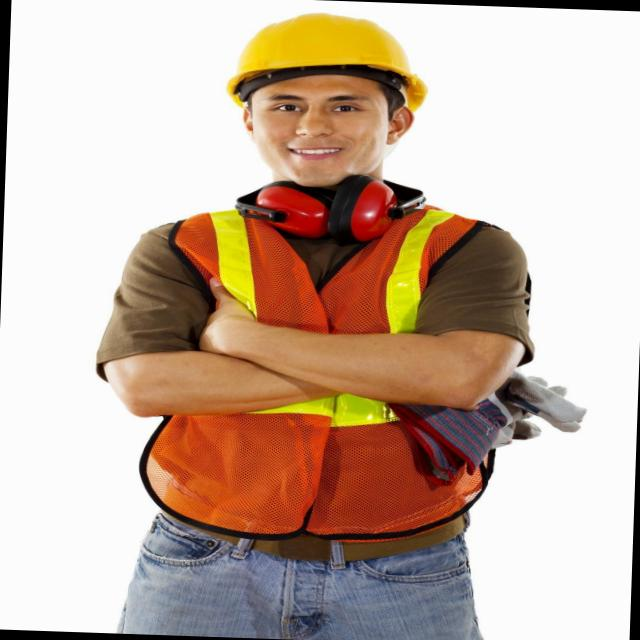helmet: (232, 15, 425, 94)
no-goggles: (238, 87, 399, 116)
vest: (155, 198, 472, 552)
